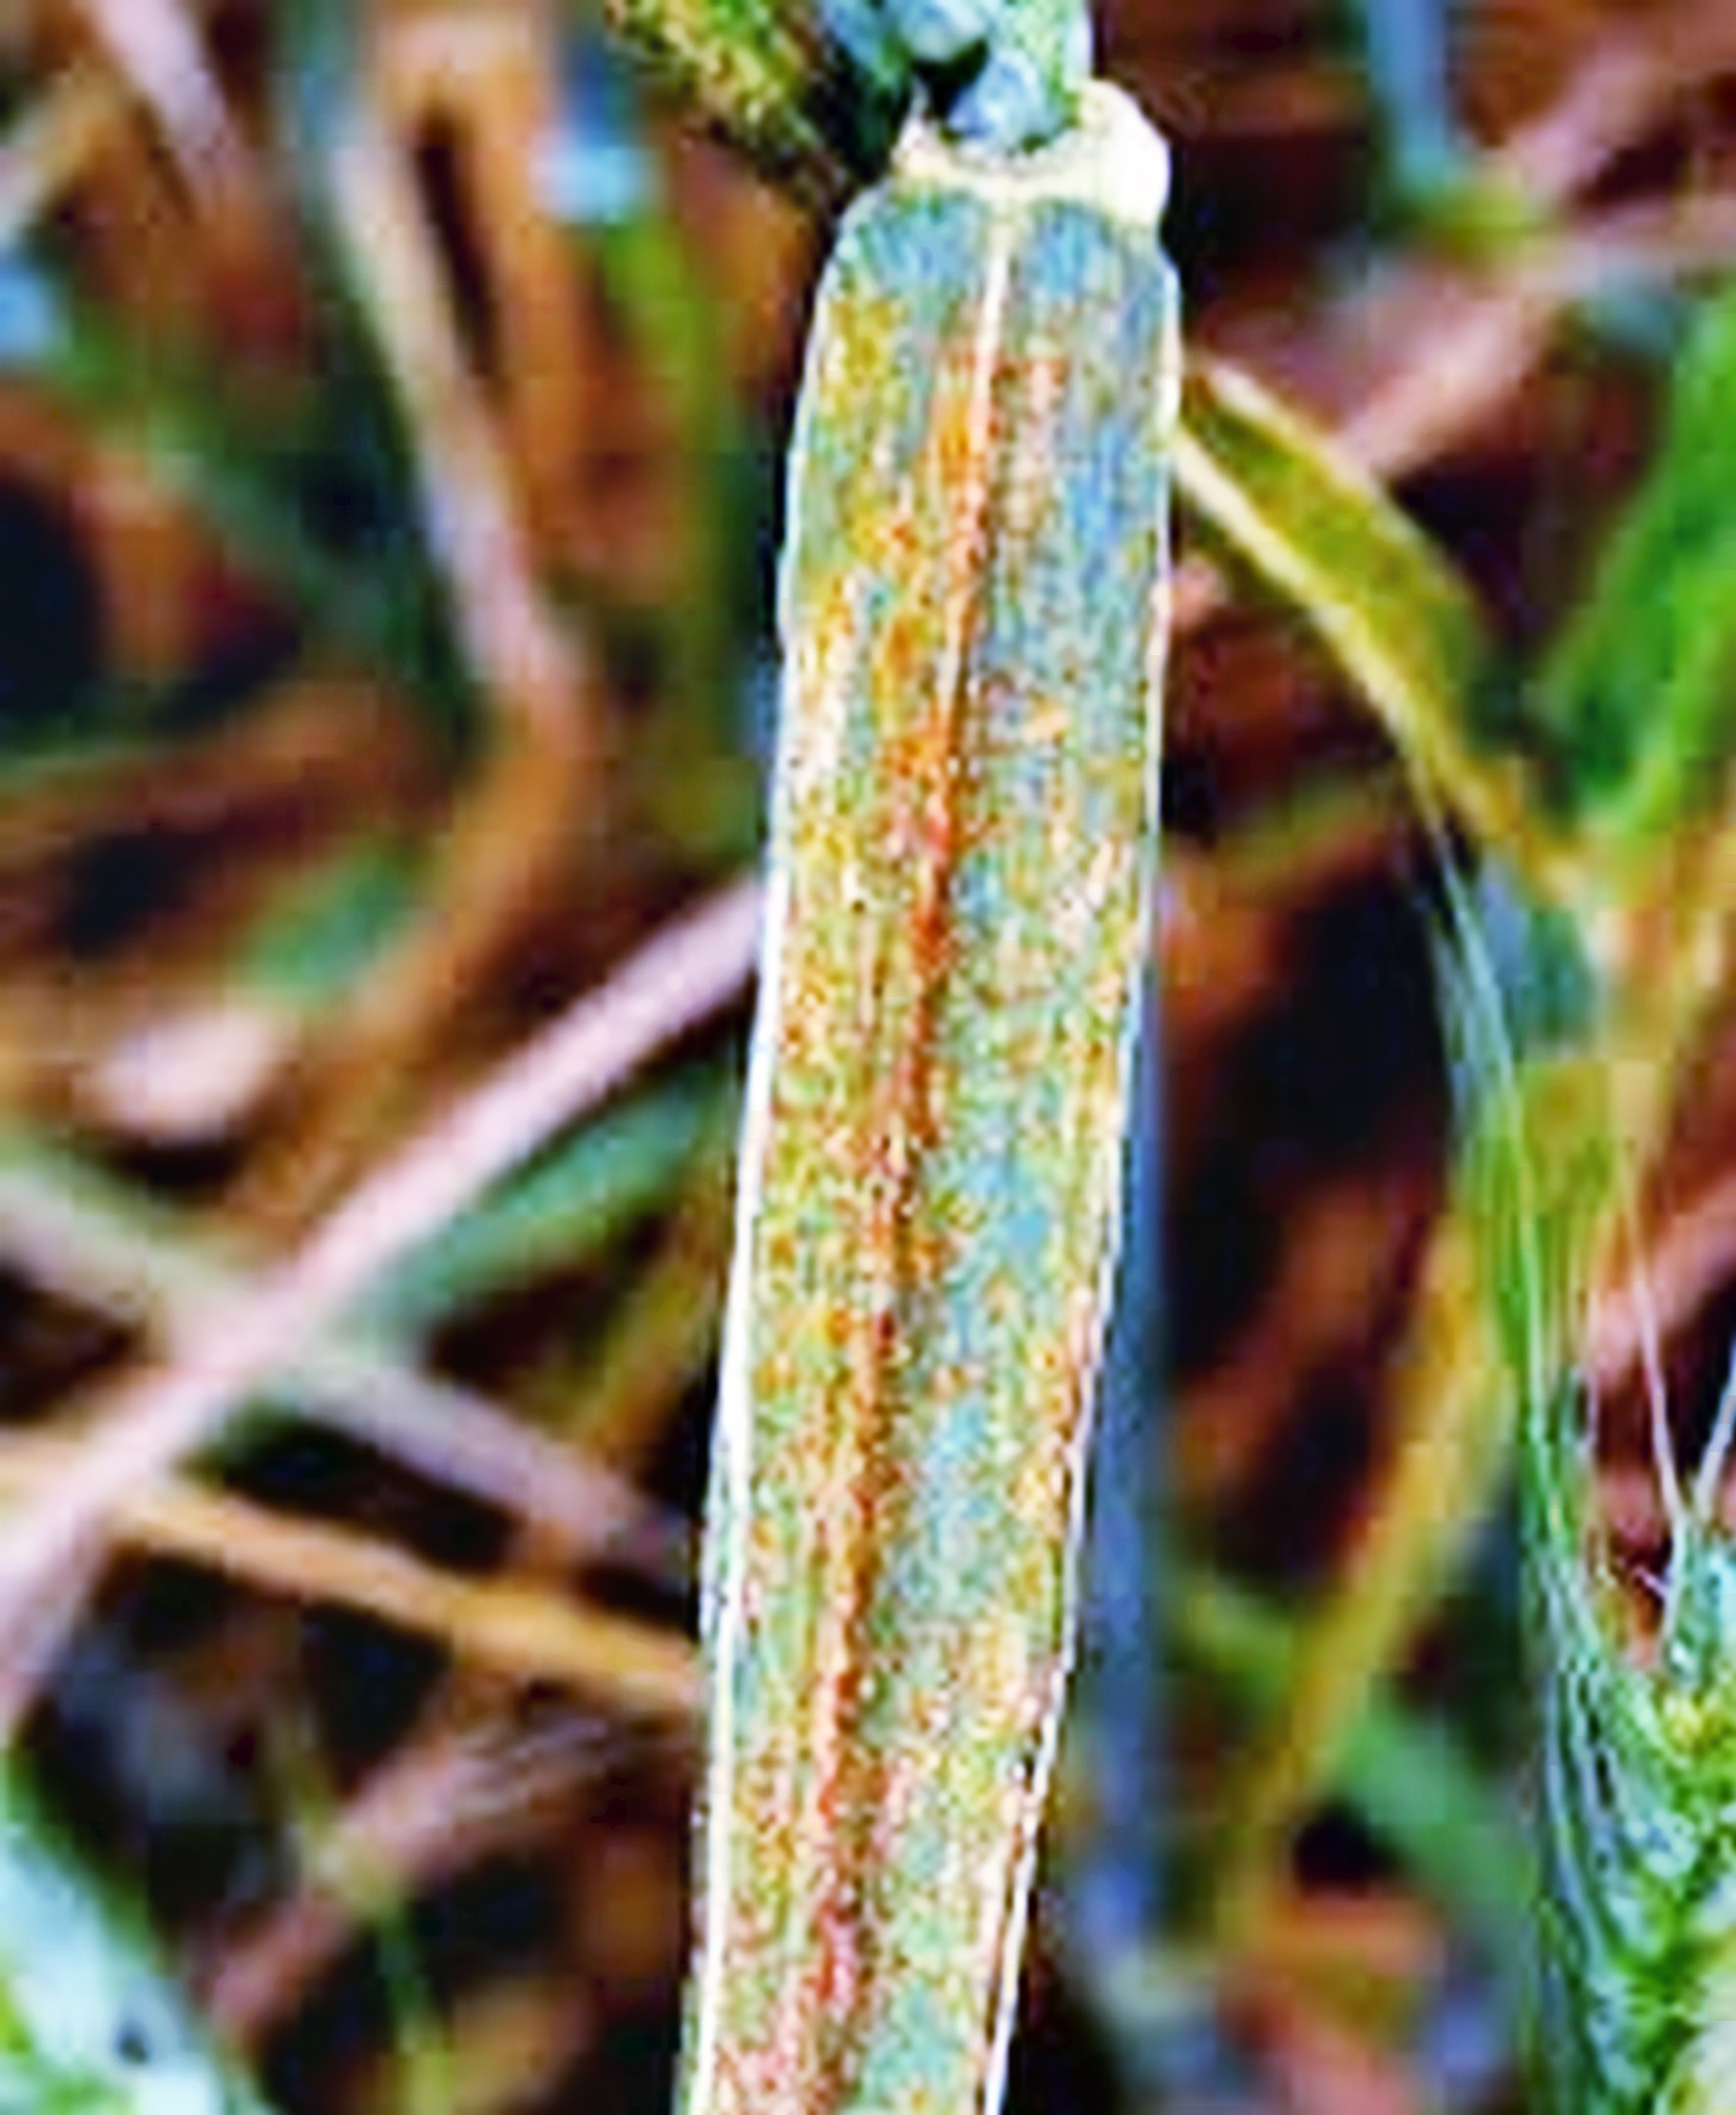Leaf Rust: (727, 427, 1191, 1941)
